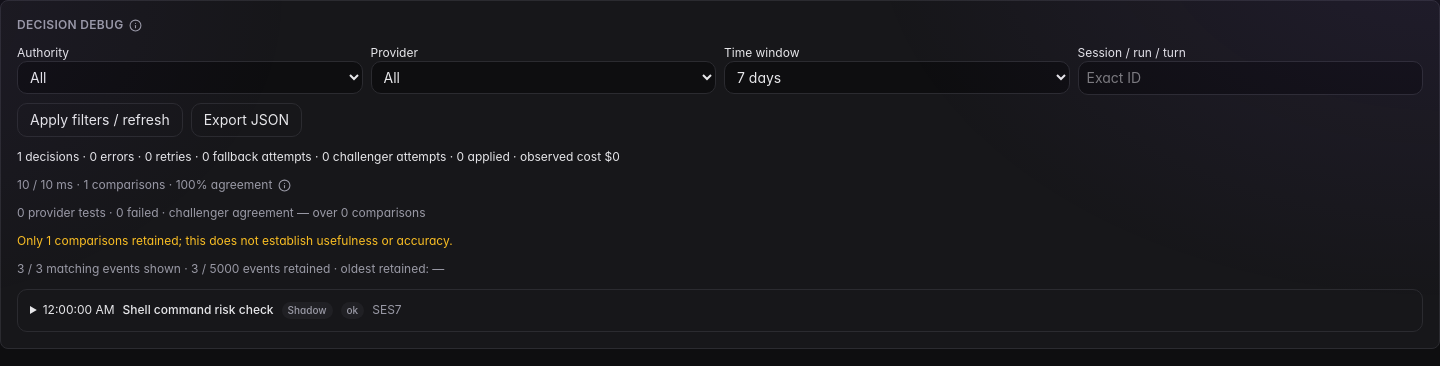
shows a correlated timeline and distinguishes yes probability from correctness
The width and height of the screenshot is (1440, 366).
Expected: the text "Agreement is not accuracy" is not shown
Click the button named "Information" next to "1 comparisons · 100% agreement" at (284, 185), box x1=278 y1=178 x2=291 y2=192
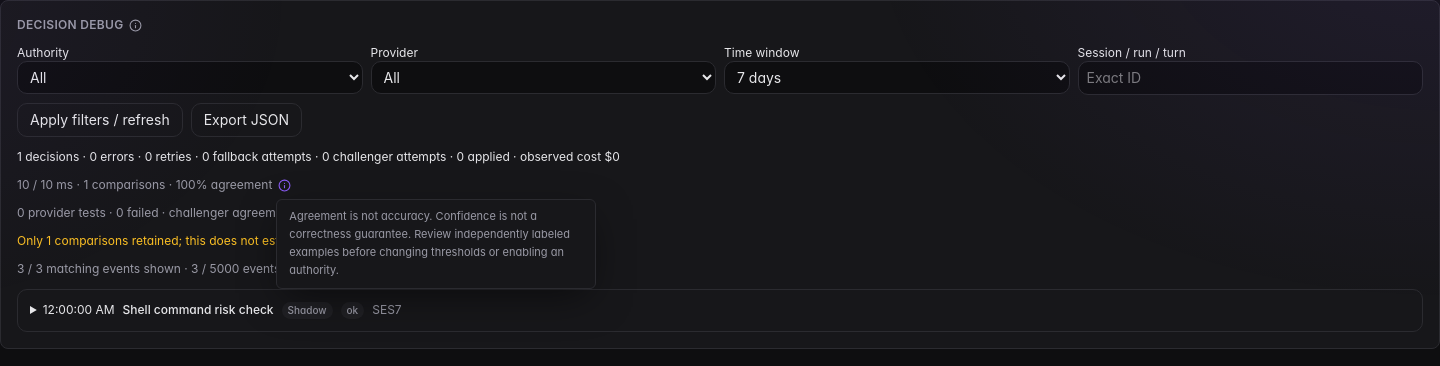
Expected: the text "SES7" is shown, x1=372 y1=302 x2=402 y2=317
Expected: the text "Agreement is not accuracy" is shown, x1=289 y1=209 x2=570 y2=277
